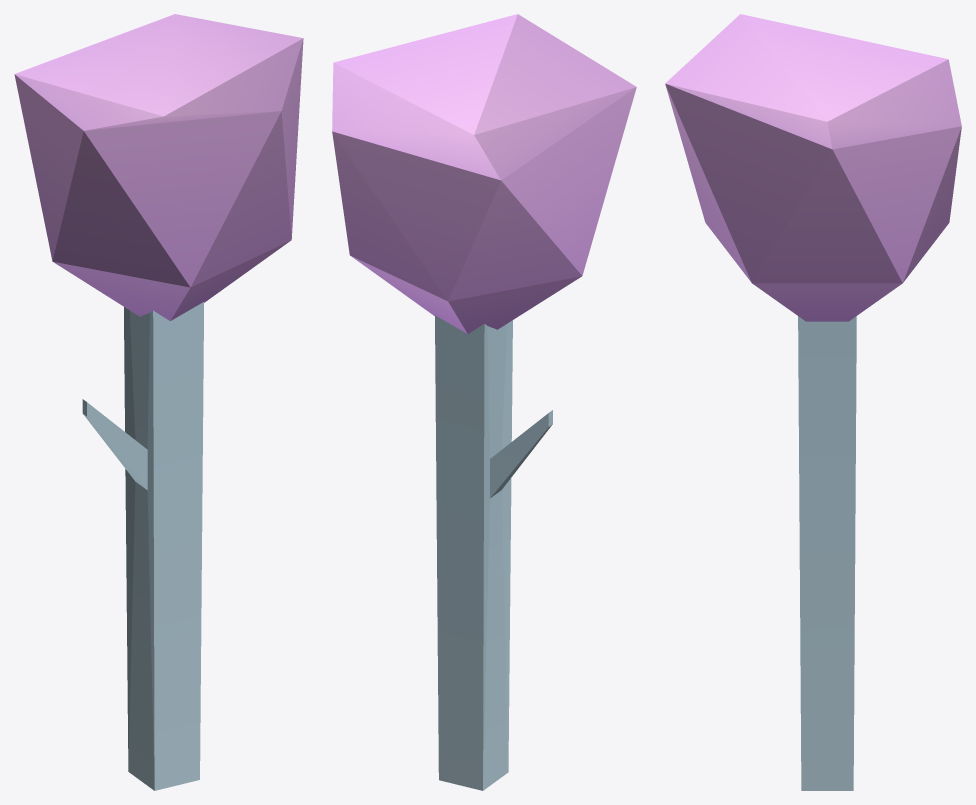
The model's file is fleure2.fbx.
3 renders of one model, left to right at view 1: azimuth 30°, elevation 25°; view 2: azimuth 150°, elevation 25°; view 3: azimuth 270°, elevation 25°, orthographic. The views are drawn at different scales.
Parts seen in each view (by area): view 1: Cube.006, Cube.007; view 2: Cube.006, Cube.007; view 3: Cube.006, Cube.007.
Boxes of the visible parts, box(x1,y1,x2,y2) form: Cube.006: box(14, 14, 303, 320); Cube.007: box(82, 302, 204, 790); Cube.006: box(332, 14, 636, 333); Cube.007: box(435, 315, 552, 790); Cube.006: box(665, 14, 961, 321); Cube.007: box(798, 316, 856, 790).
Bounding box in the file's own units: 0.1655 × 0.4256 × 0.1604.
Materials: 2 (2 with a texture image).
